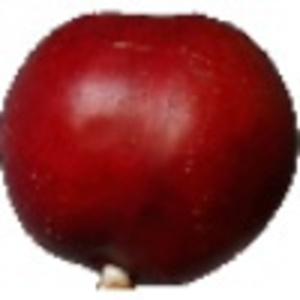nectarina: (1, 10, 300, 294)
